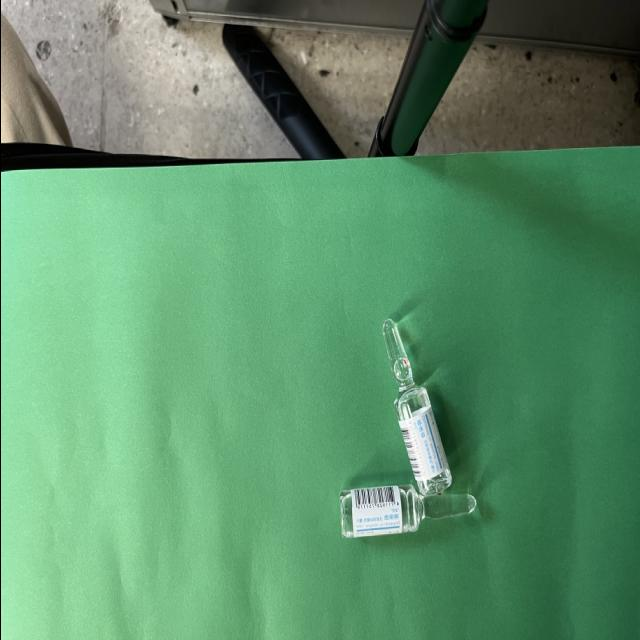Ampoules: (382, 318, 451, 495), (338, 484, 476, 537)
